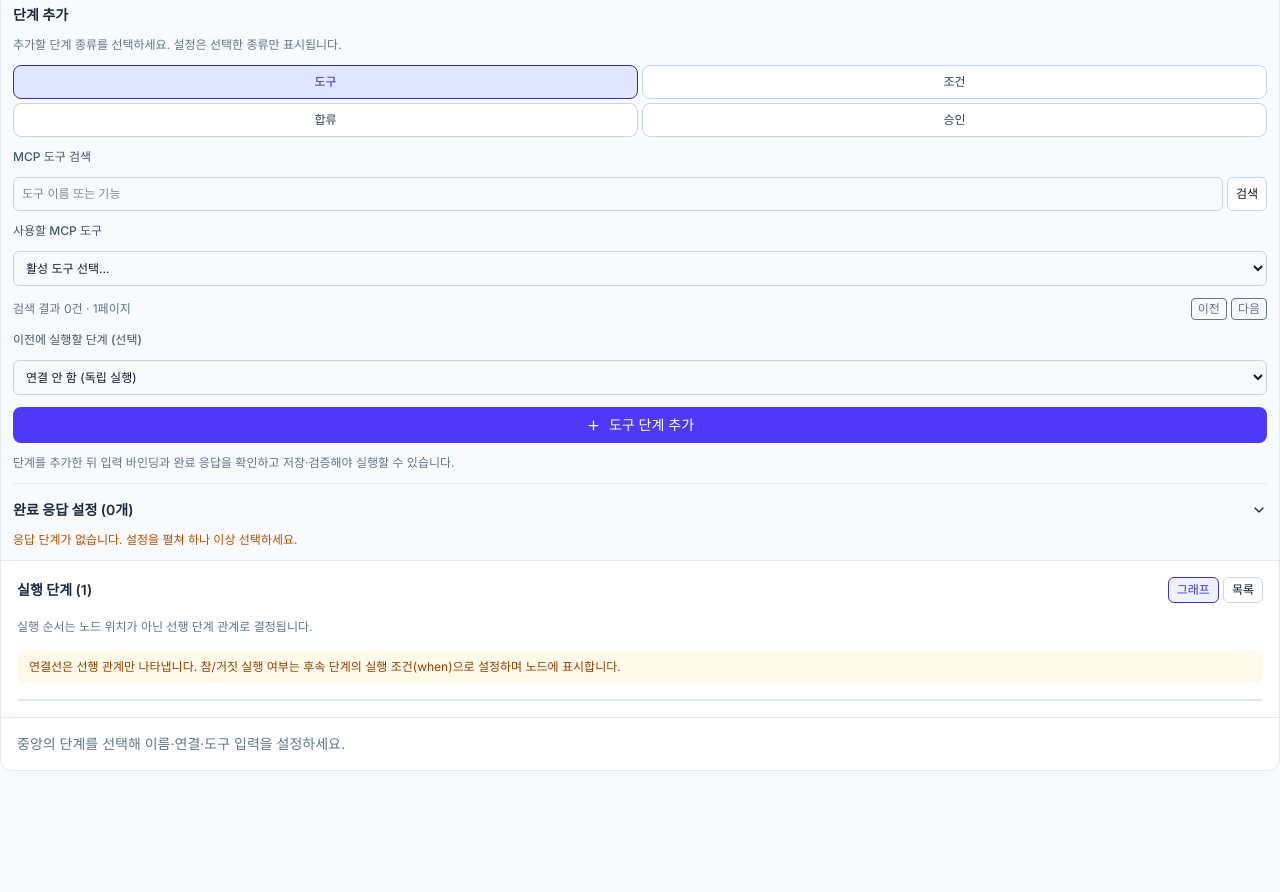
Canonical visual workflow editor › shows simple CONDITION settings read-only on a published version
The image size is (1280, 892).
Click the button "조건". click: (954, 82)
box: x1=642 y1=65 x2=1267 y2=99
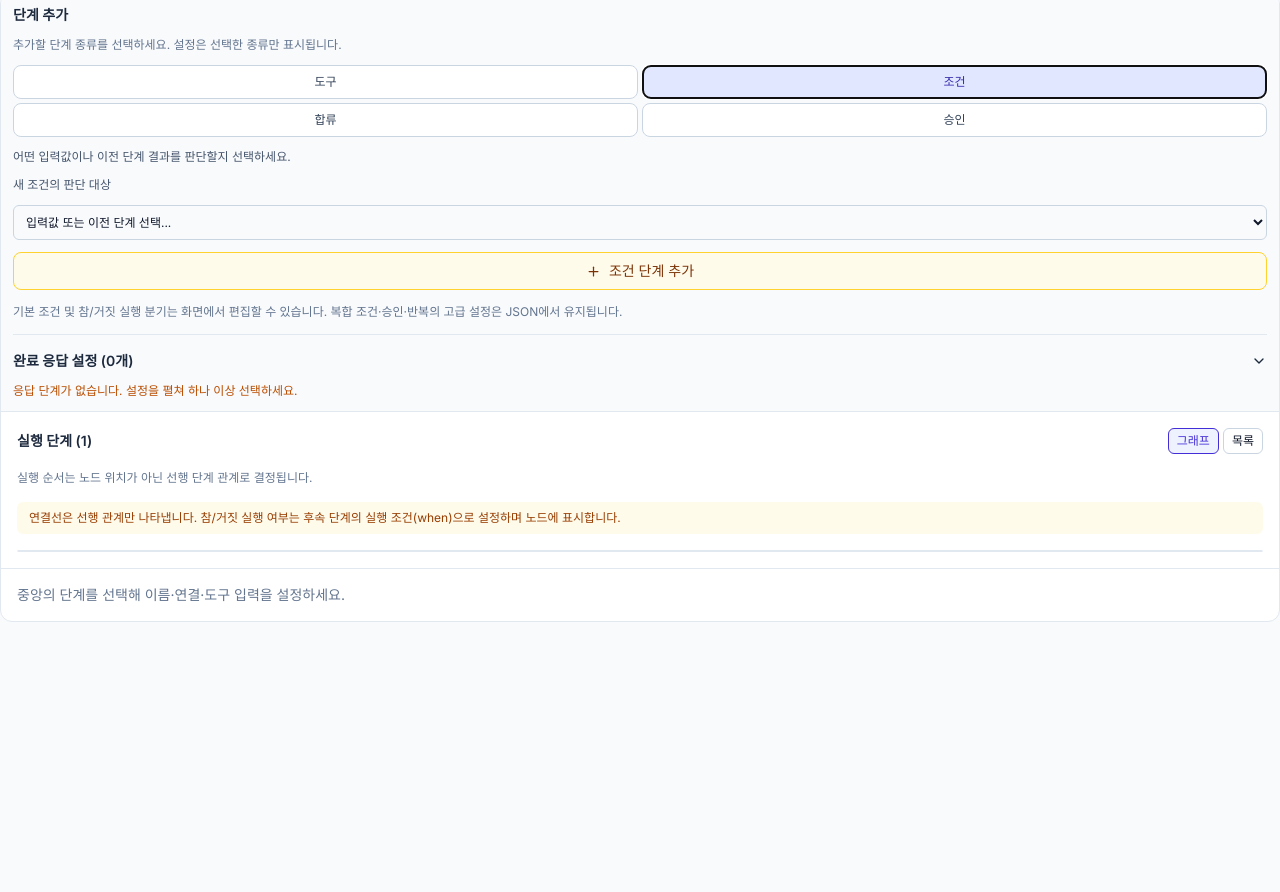
Expected: the button "조건 단계 추가" is disabled, x1=13 y1=252 x2=1267 y2=290
Click the button "목록". click: (1243, 440)
box: x1=1223 y1=428 x2=1263 y2=454
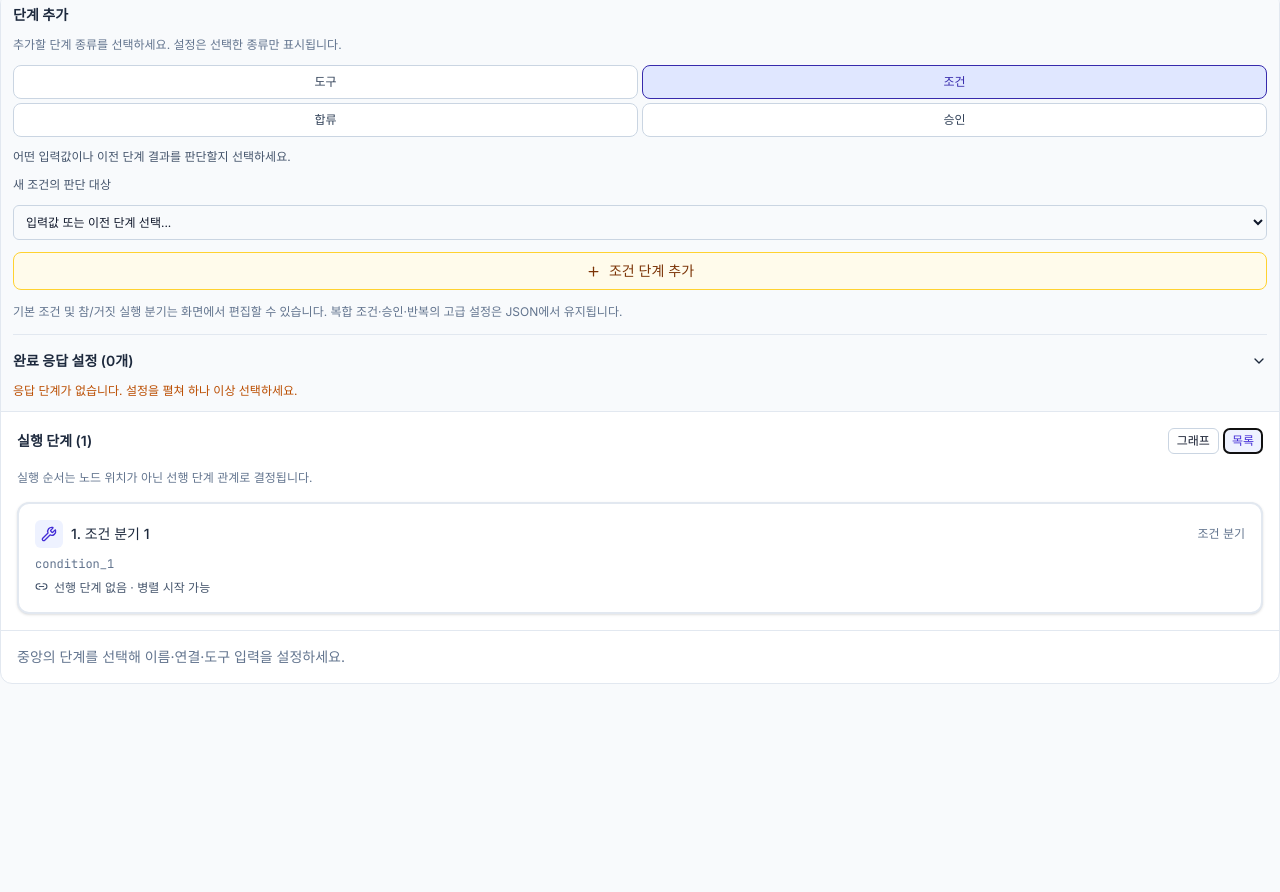
Click the button with aria-label "조건 분기 1 단계 선택". click: (117, 533)
box: x1=17 y1=502 x2=1263 y2=614
(page scrolled)
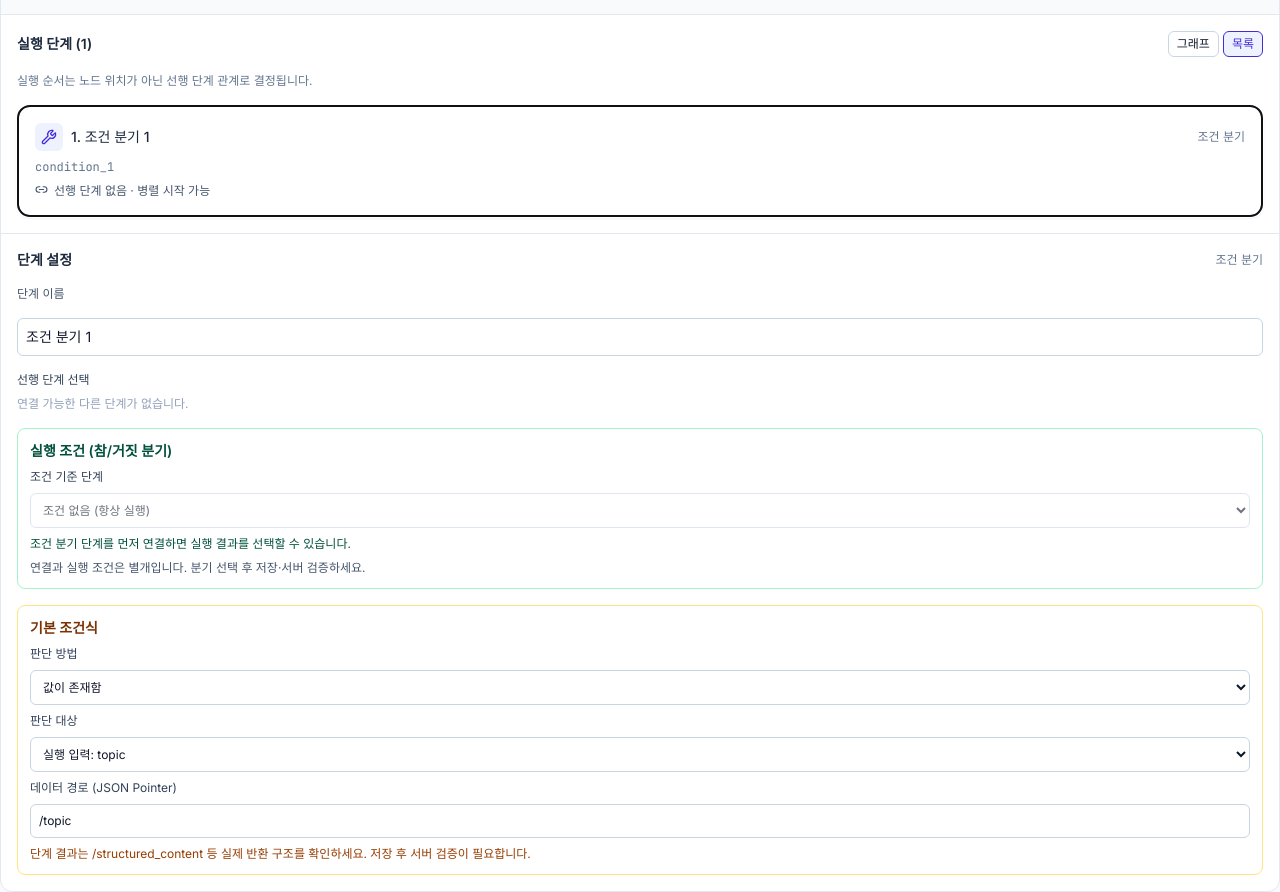
Now the dropdown labelled "판단 방법" is disabled, box x1=30 y1=670 x2=1250 y2=704
Now the dropdown labelled "판단 대상" is disabled, box x1=30 y1=736 x2=1250 y2=772
Now the field labelled "데이터 경로 (JSON Pointer)" is disabled, box x1=30 y1=804 x2=1250 y2=838
